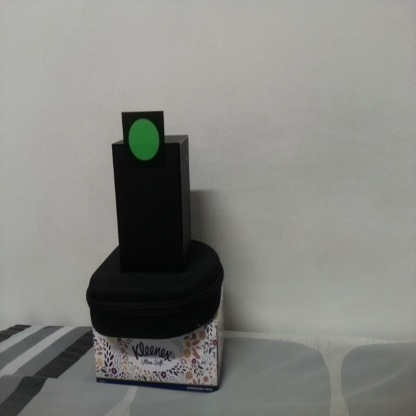id_5: (123, 112, 165, 176)
